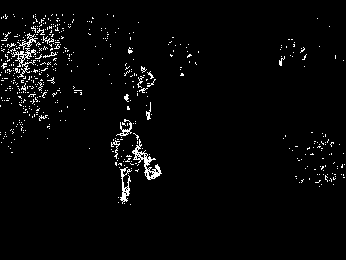person: (108, 116, 169, 211), (136, 62, 163, 115)
